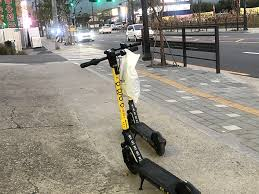guide_blocks: (172, 81, 215, 98), (216, 98, 257, 113), (151, 73, 170, 83)
kick_body: (138, 123, 153, 142)
kick_handler: (82, 47, 138, 69), (113, 42, 141, 50)
kick_neck: (114, 73, 129, 131)
kick_wheel: (121, 144, 139, 173), (152, 132, 165, 154)
